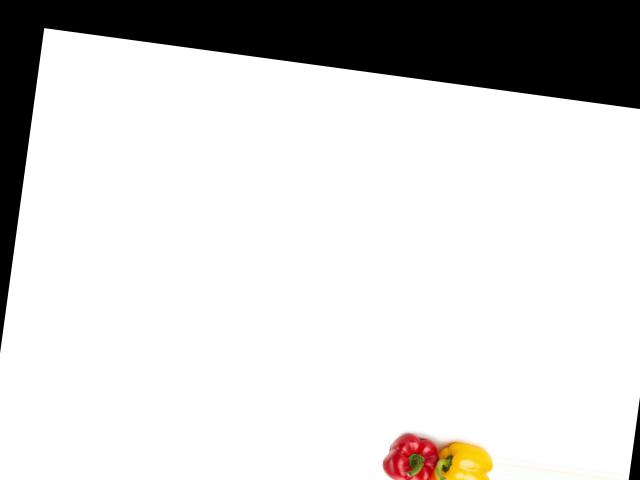bell_pepper: (435, 435, 496, 480)
